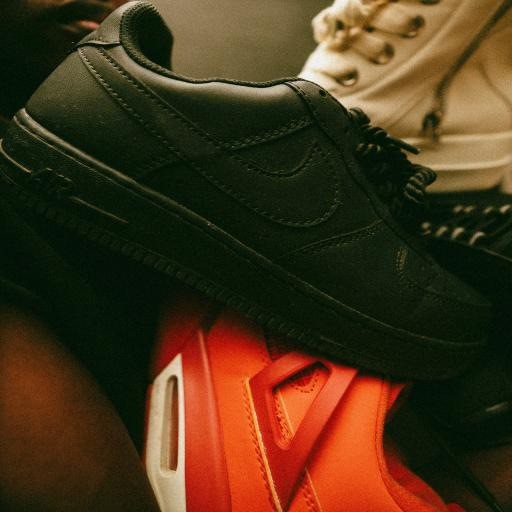shoe: (0, 2, 489, 379), (145, 295, 462, 511), (300, 0, 511, 192)
